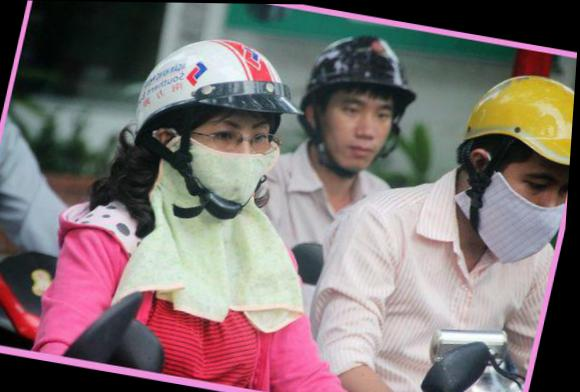NONE: (316, 88, 400, 182)
OK: (175, 97, 284, 217)
WRONG: (479, 149, 573, 270)
